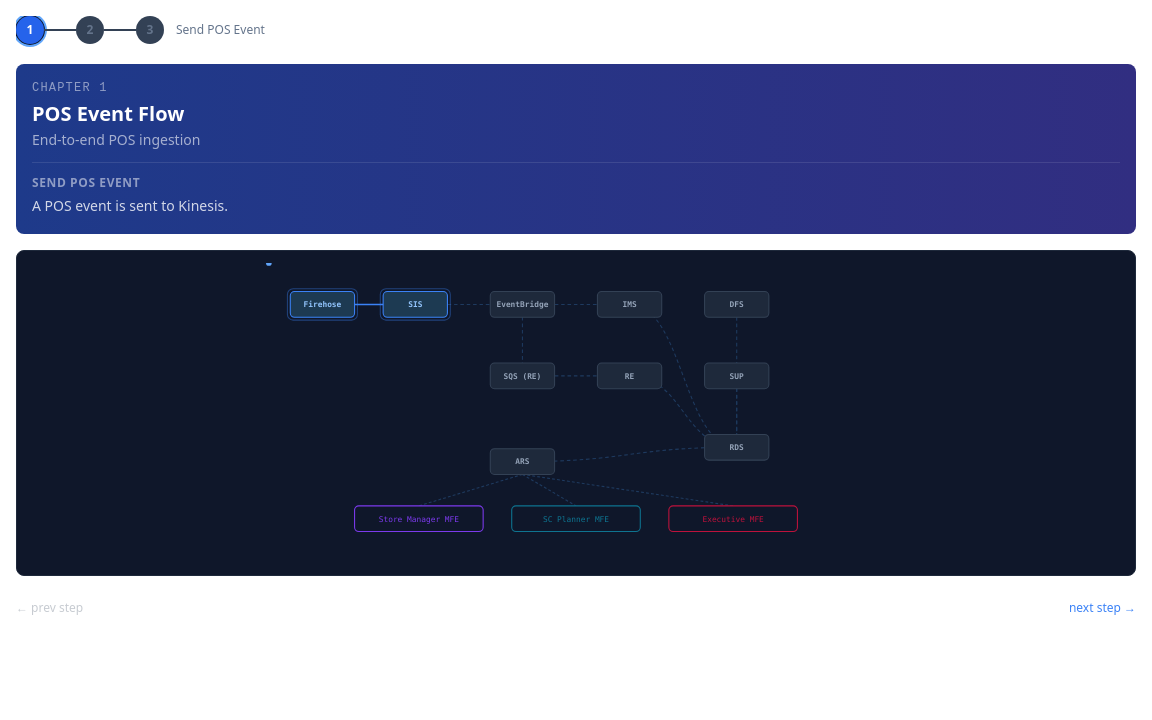
it: ChapterView › navigates via step progress bar click
The image size is (1152, 720).
Step 1. Click the button titled "Verify Stock Alert" → {"x": 90, "y": 30}, box left=76, top=16, right=104, bottom=44
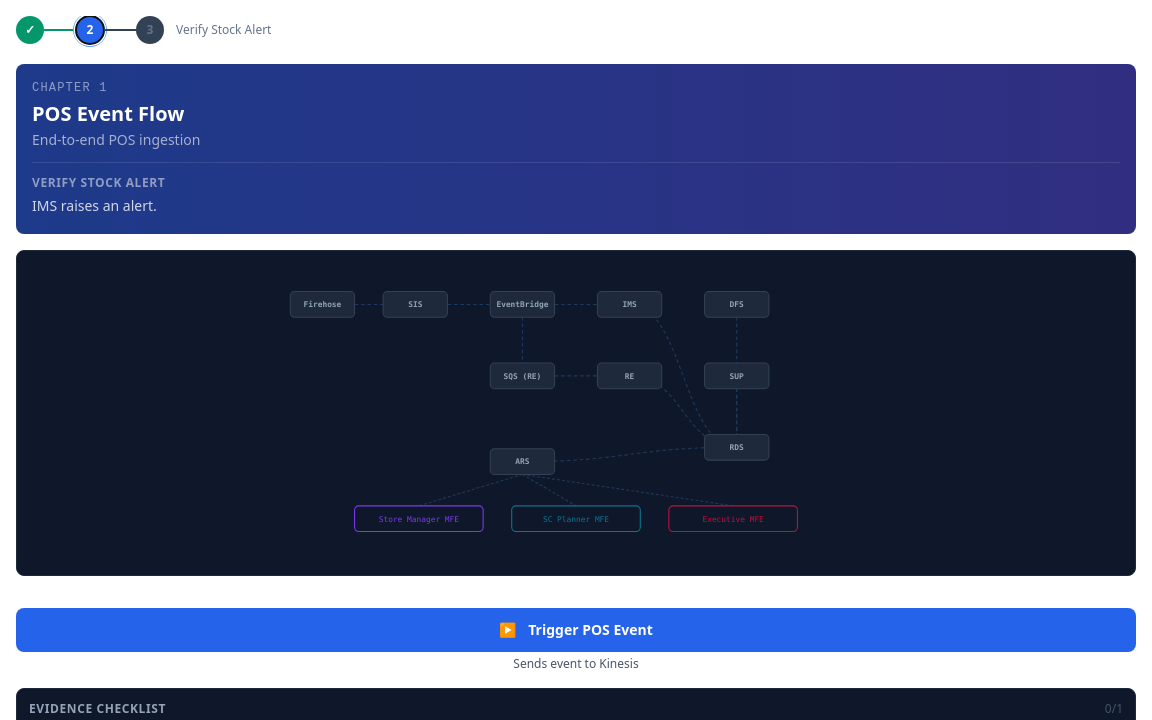
Result: the text "IMS raises an alert." is shown at left=32, top=196, right=157, bottom=215
